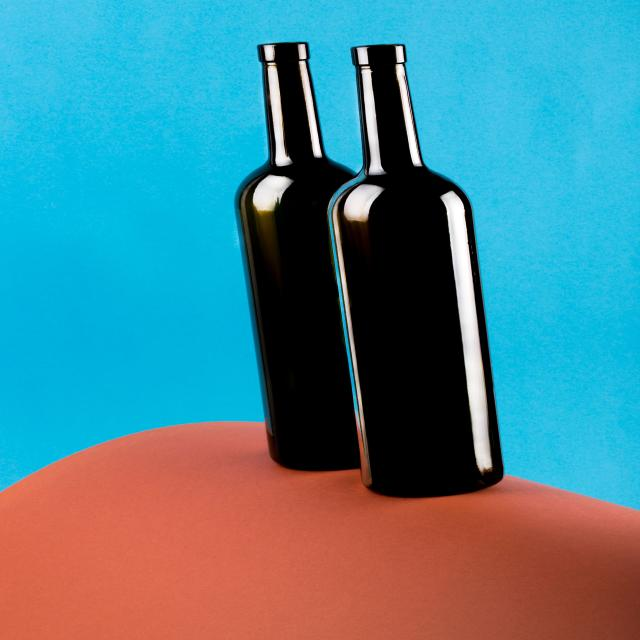Bottle: (329, 45, 503, 496), (236, 43, 359, 469)
